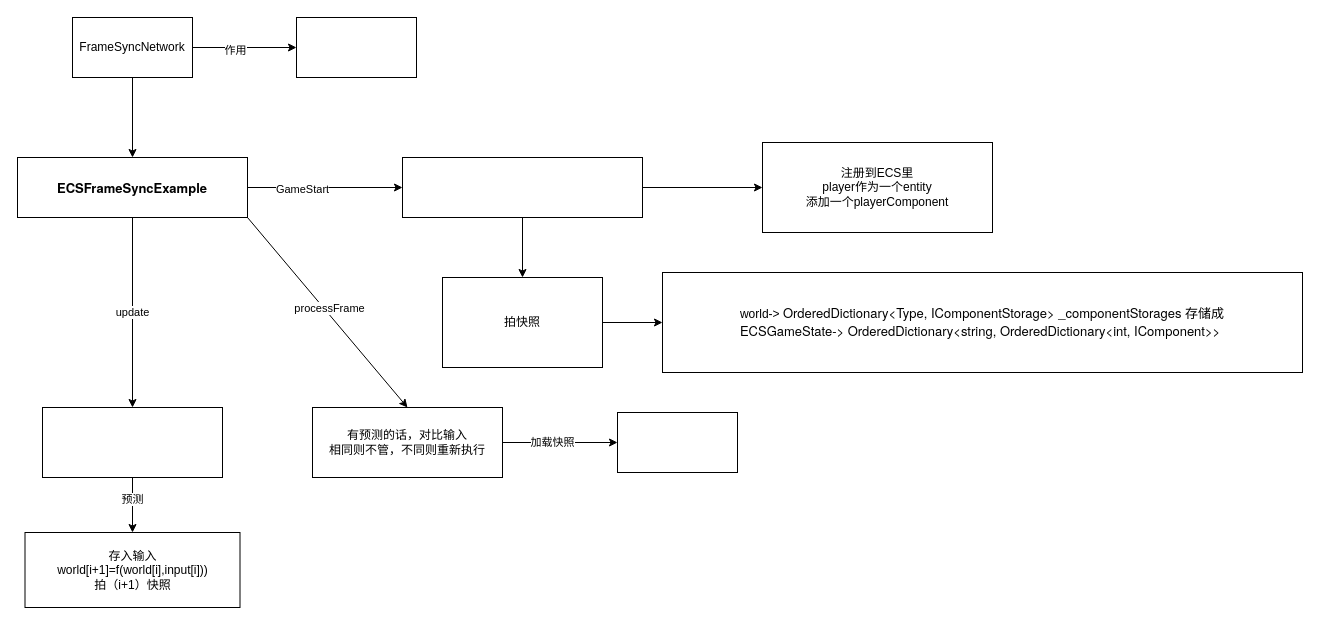
This 1320x625 diagram has some shape labels left out. Each missing label, with the centre of its shape:
处理网络连接: point (356, 47)
生成player: point (522, 187)
符合条件 发送服务器消息并预测: point (132, 442)
